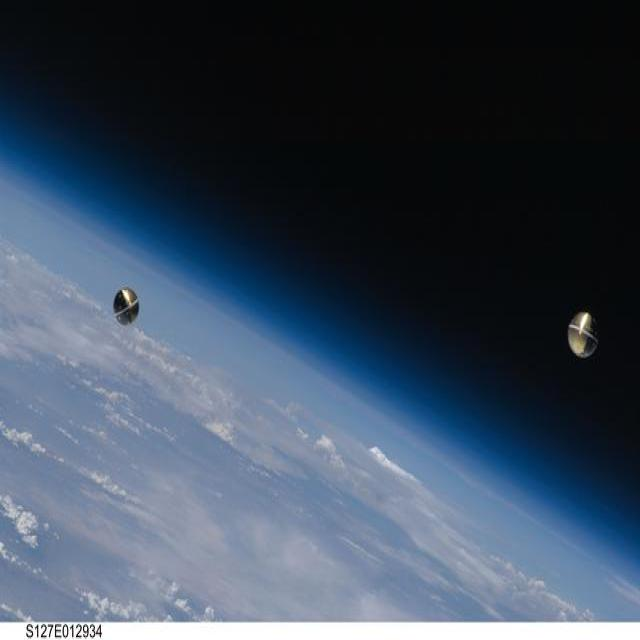medium_debris: (568, 311, 599, 358), (112, 286, 140, 325)
